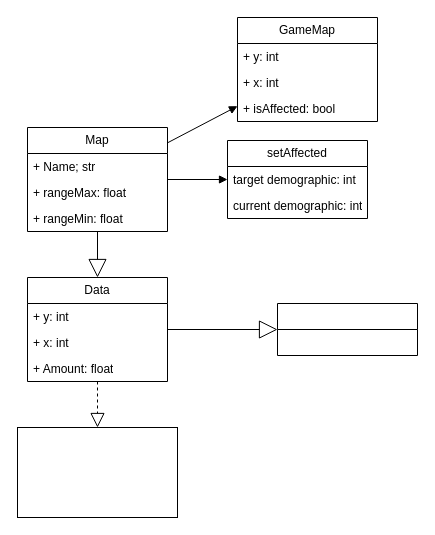
This 435x535 diagram has some shape labels left out. Here are the shapes that lost their labels. From the top down, the centre of each, then its label:
At point 347,329: "Reader".
At point 97,472: "Object:Age y = 1 x = 1 amount = 20".
